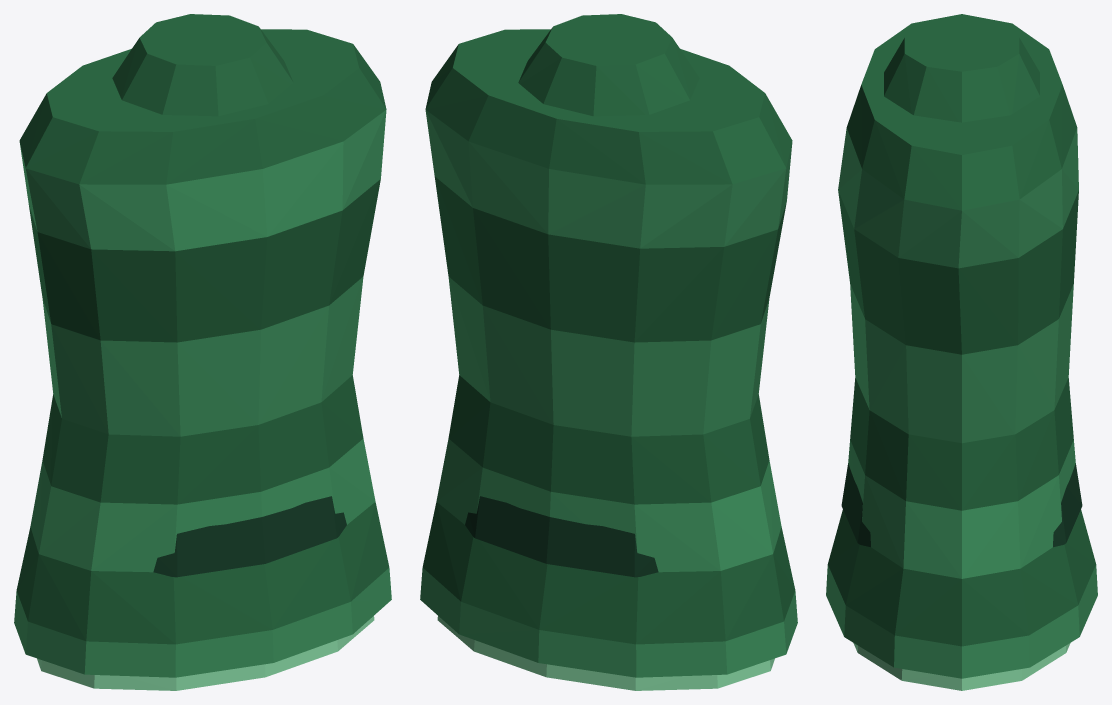
File: gear_adamant_chainbody_torso_m.glb
3 views of the same model, side by side, from view 1: azimuth 30°, elevation 25°; view 2: azimuth 150°, elevation 25°; view 3: azimuth 270°, elevation 25° (orthographic). The views are drawn at different scales.
Visible parts, largest first — view 1: gear_adamant_chainbody_torso_m; view 2: gear_adamant_chainbody_torso_m; view 3: gear_adamant_chainbody_torso_m.
Part boxes in pixels (x1=…): gear_adamant_chainbody_torso_m: x1=14, y1=14, x2=391, y2=690; gear_adamant_chainbody_torso_m: x1=420, y1=14, x2=797, y2=690; gear_adamant_chainbody_torso_m: x1=826, y1=14, x2=1097, y2=690.
Bounding box in the file's own units: 0.458 × 0.73 × 0.316.
